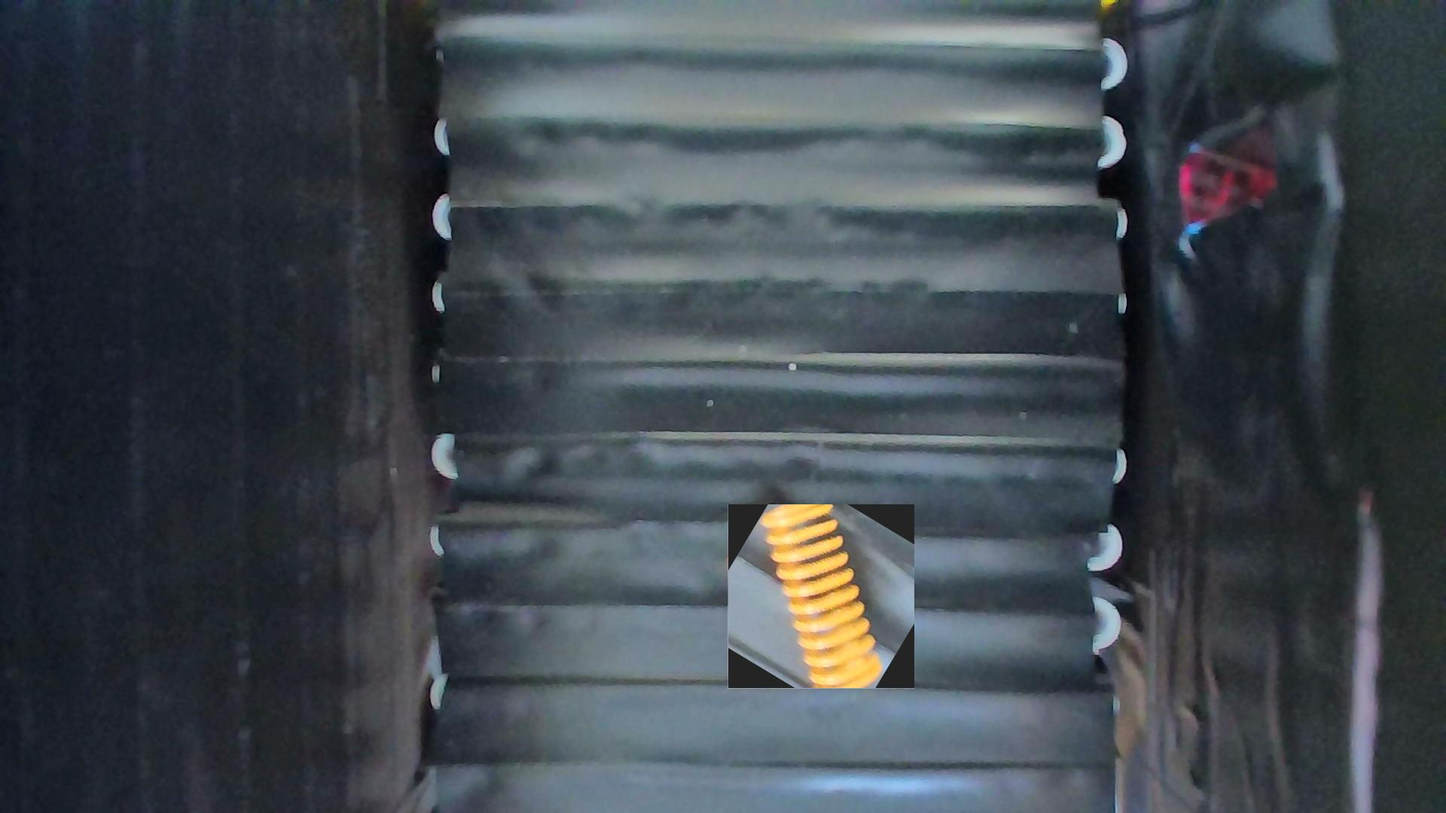spring: (727, 505, 914, 689)
